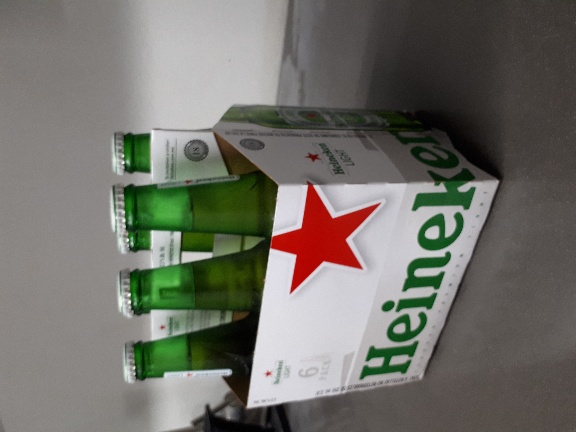HLB: (72, 66, 361, 297)
